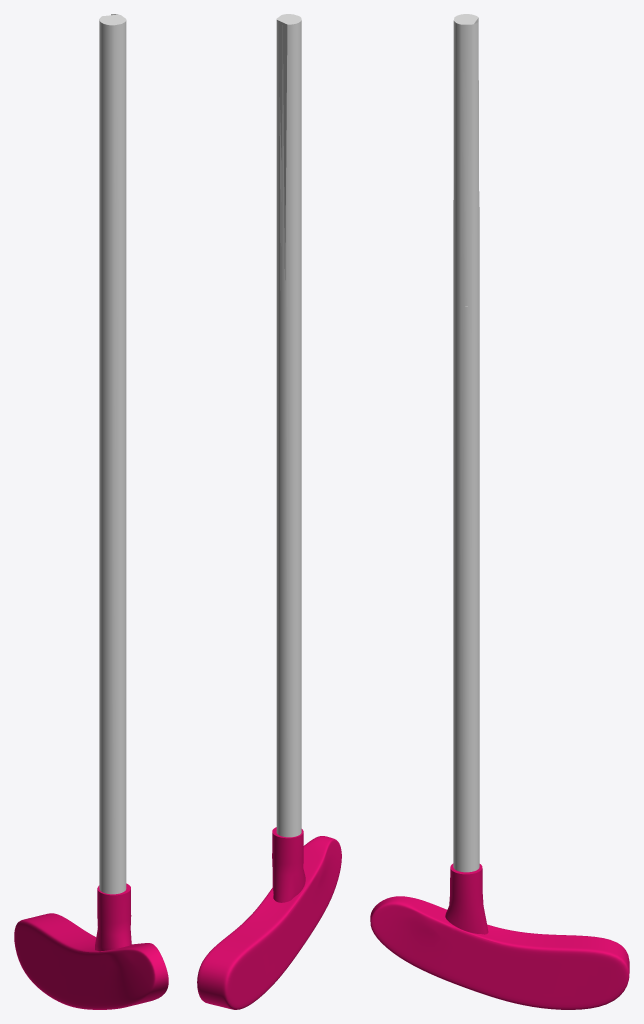
The model's file is body.glb.
3 renders of one model, left to right at view 1: azimuth 30°, elevation 25°; view 2: azimuth 150°, elevation 25°; view 3: azimuth 270°, elevation 25°, orthographic. The views are drawn at different scales.
Visible parts, largest first — view 1: Rod, Head; view 2: Rod, Head; view 3: Rod, Head.
Boxes of the visible parts, left/top/right/bottom form: Rod: left=99, top=14, right=126, bottom=894; Head: left=14, top=883, right=168, bottom=1009; Rod: left=276, top=14, right=301, bottom=837; Head: left=197, top=827, right=341, bottom=1009; Rod: left=453, top=14, right=479, bottom=872; Head: left=370, top=863, right=629, bottom=1009.
Bounding box in the file's own units: 0.0315 × 0.9177 × 0.219.
